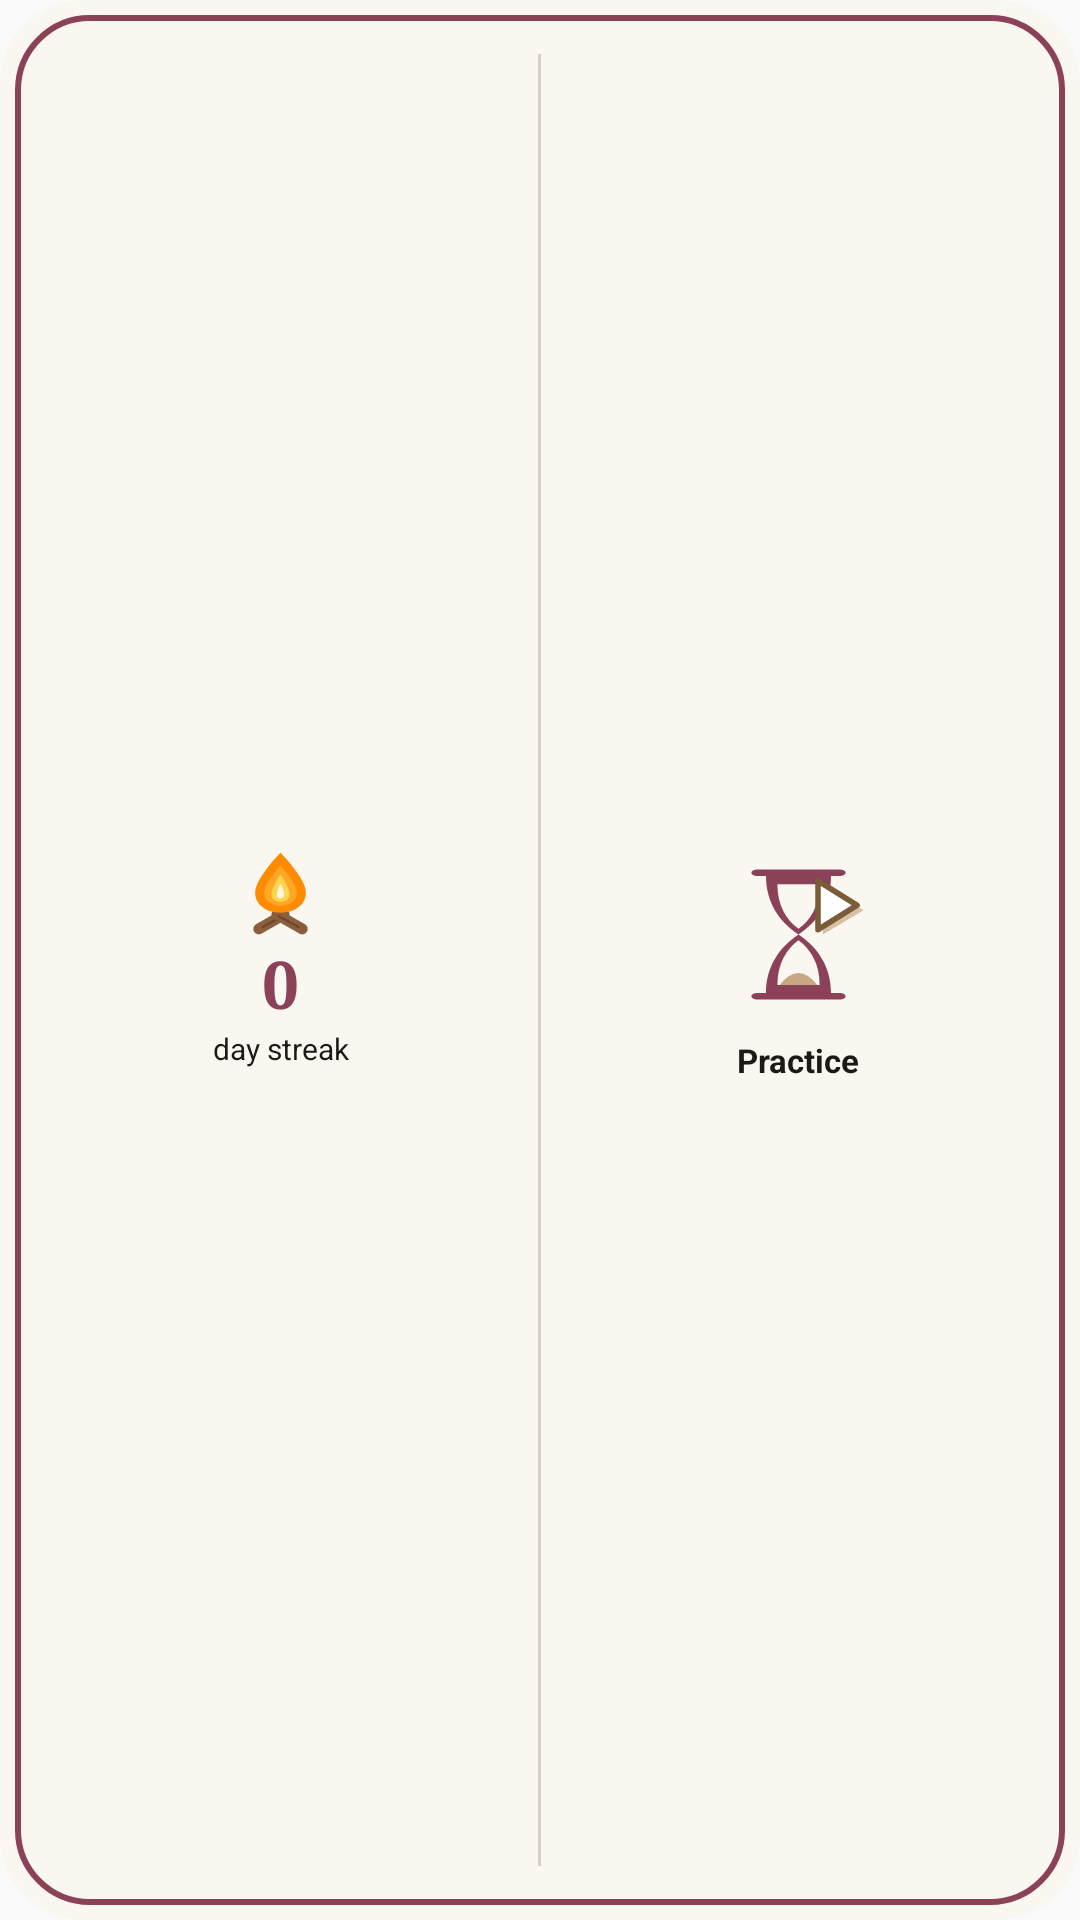

Screen size 1080 x 1920. Icon name, then its box in pixels as (x1, y1, x2, y2):
flame: (253, 853, 308, 935)
widget hourglass play: (751, 869, 863, 1000)
